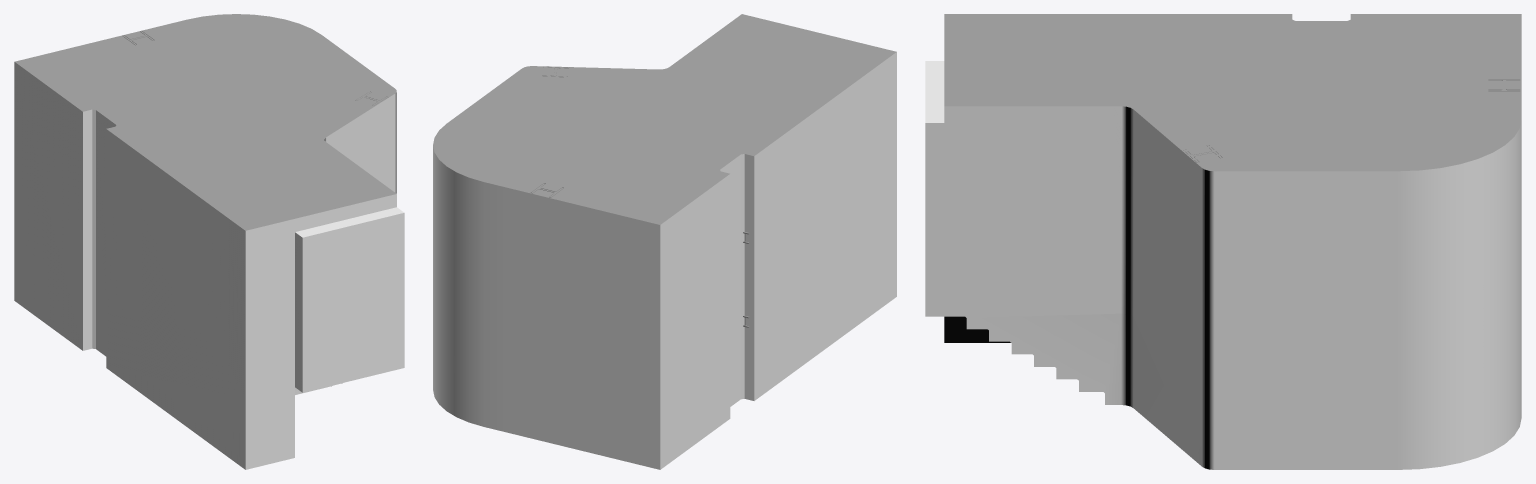
Rendered from StoreRoom.fbx.
3 views of the same model, side by side, from view 1: azimuth 30°, elevation 25°; view 2: azimuth 150°, elevation 25°; view 3: azimuth 270°, elevation 25° (orthographic). The views are drawn at different scales.
Visible parts, largest first — view 1: StoreRoomMain, StoreRoomCeiling; view 2: StoreRoomMain, StoreRoomCeiling; view 3: StoreRoomMain, StoreRoomCeiling.
Part boxes in pixels (x1,y1,x2,y2): StoreRoomMain: [14, 62, 404, 469]; StoreRoomCeiling: [15, 14, 396, 230]; StoreRoomMain: [433, 52, 896, 469]; StoreRoomCeiling: [433, 14, 896, 224]; StoreRoomMain: [925, 61, 1521, 469]; StoreRoomCeiling: [944, 14, 1521, 171].
Size of the model in its own units: 372 by 330 by 596.
